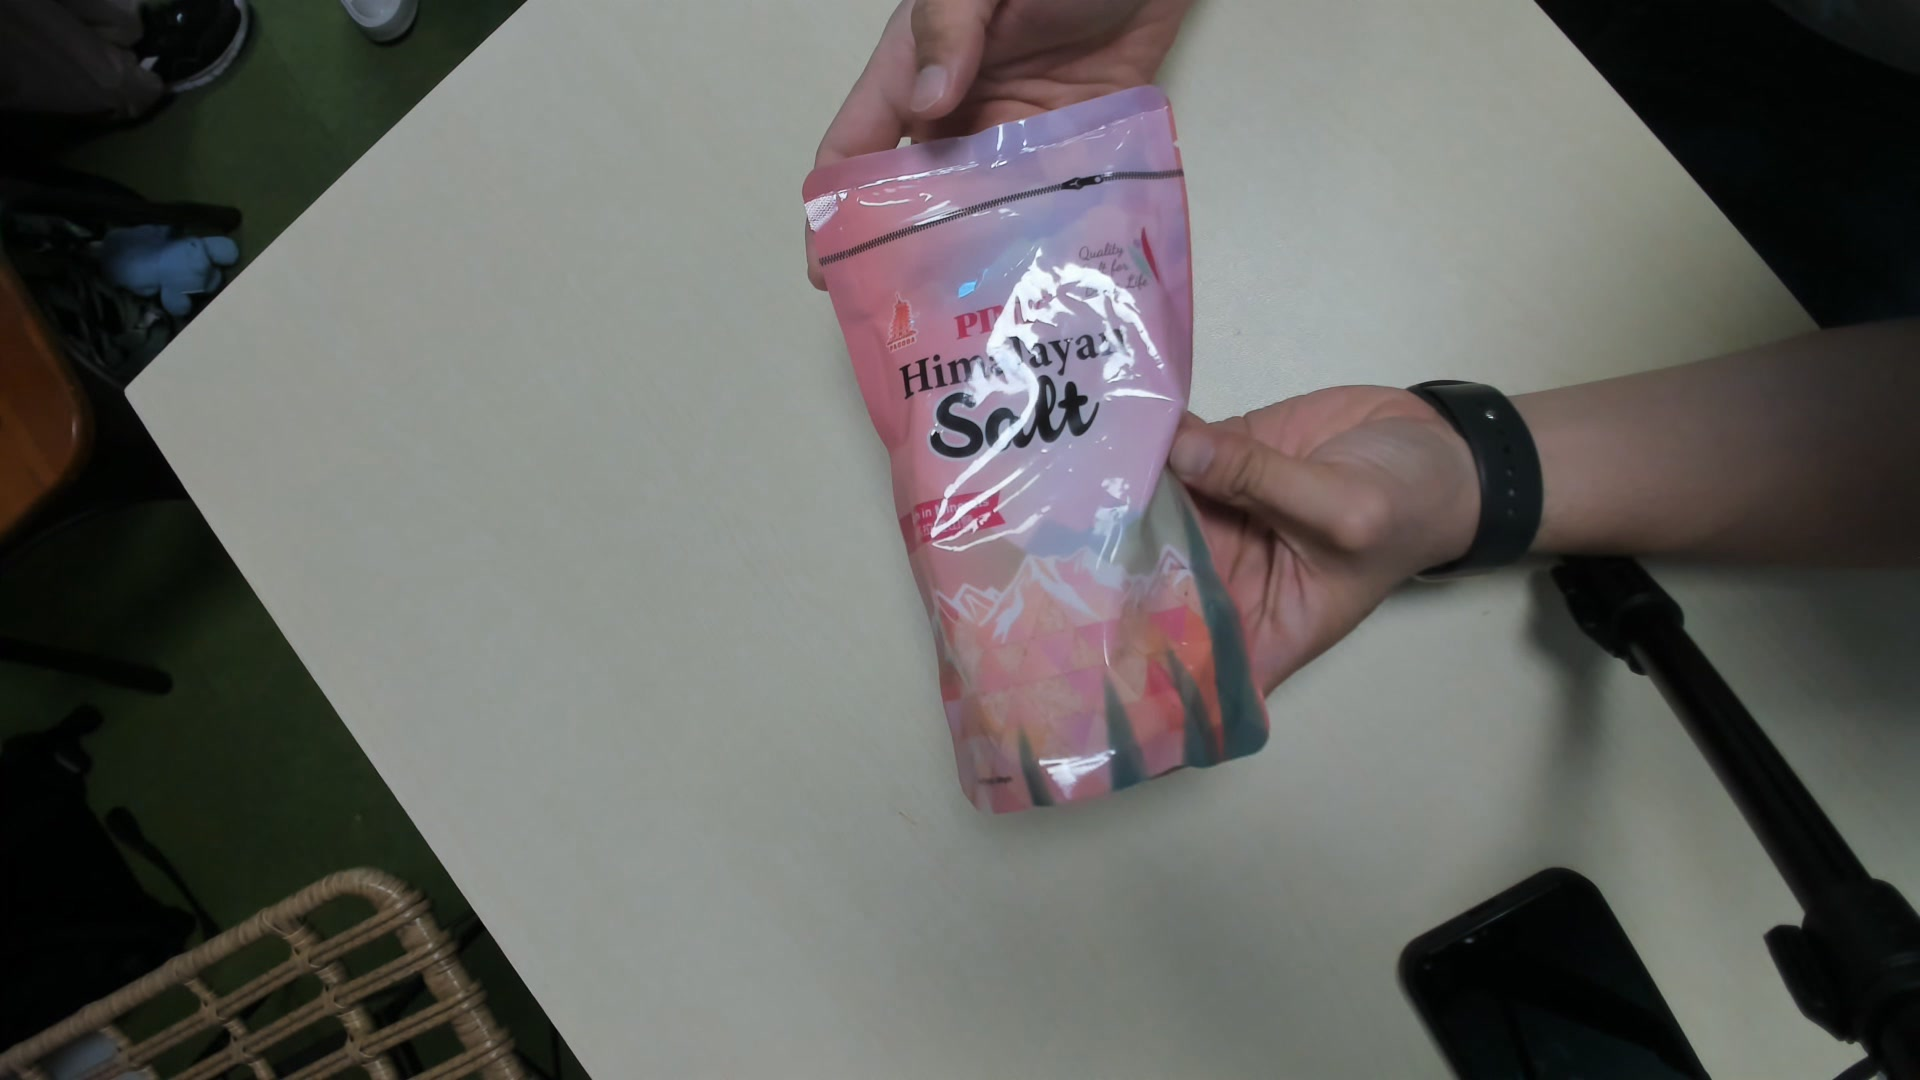Salt_400-499g_NonHalal_NonHealthy: (812, 94, 1271, 825)
